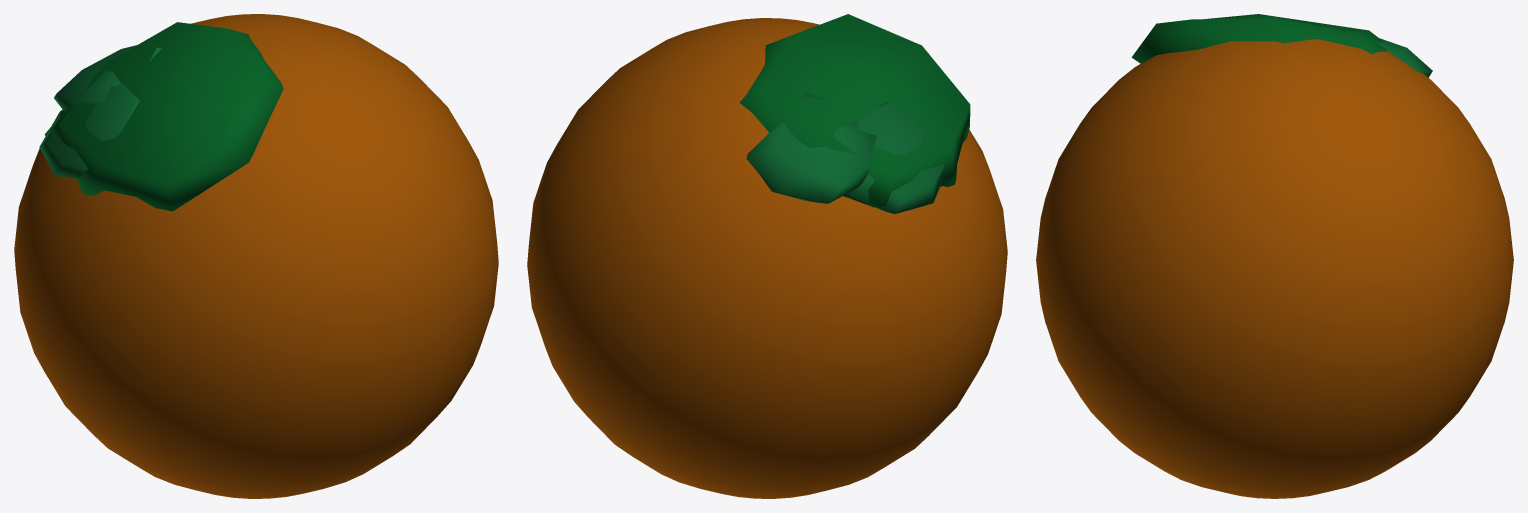
Rendered from moldy orange.fbx.
3 views of the same model, side by side, from view 1: azimuth 30°, elevation 25°; view 2: azimuth 150°, elevation 25°; view 3: azimuth 270°, elevation 25° (orthographic).
Parts seen in each view (by area): view 1: Sphere, Cube, Cube.002, Cube.001; view 2: Sphere, Cube, Cube.001, Cube.002; view 3: Sphere, Cube, Cube.001.
Part boxes in pixels (box(x1,y1,x2,y2)): Sphere: box(14, 14, 498, 498); Cube: box(44, 22, 283, 211); Cube.002: box(39, 84, 139, 177); Cube.001: box(54, 45, 161, 110); Sphere: box(527, 18, 1007, 498); Cube: box(739, 14, 970, 207); Cube.001: box(746, 93, 876, 203); Cube.002: box(848, 101, 944, 213); Sphere: box(1036, 39, 1513, 498); Cube: box(1131, 14, 1387, 63); Cube.001: box(1323, 25, 1432, 77).
Bounding box in the file's own units: 200 × 206 × 200.
